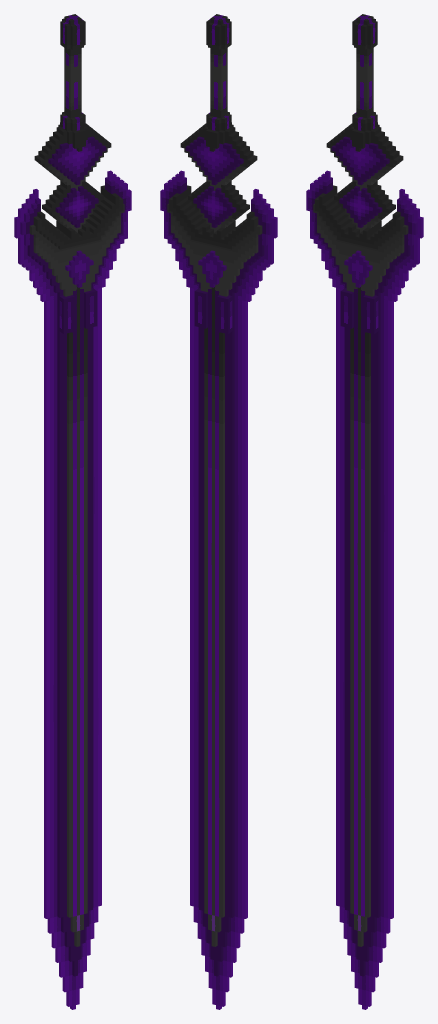
Rendered from 魔王长剑.gltf.
3 views of the same model, side by side, from view 1: azimuth 30°, elevation 25°; view 2: azimuth 150°, elevation 25°; view 3: azimuth 330°, elevation 25° (orthographic).
Parts seen in each view (by area): view 1: Object; view 2: Object; view 3: Object.
Boxes of the visible parts, x1=… form: Object: x1=14, y1=14, x2=131, y2=1009; Object: x1=160, y1=14, x2=277, y2=1009; Object: x1=306, y1=14, x2=423, y2=1009.
Size of the model in its own units: 31 by 255 by 7.
1 material, 1 textured.
